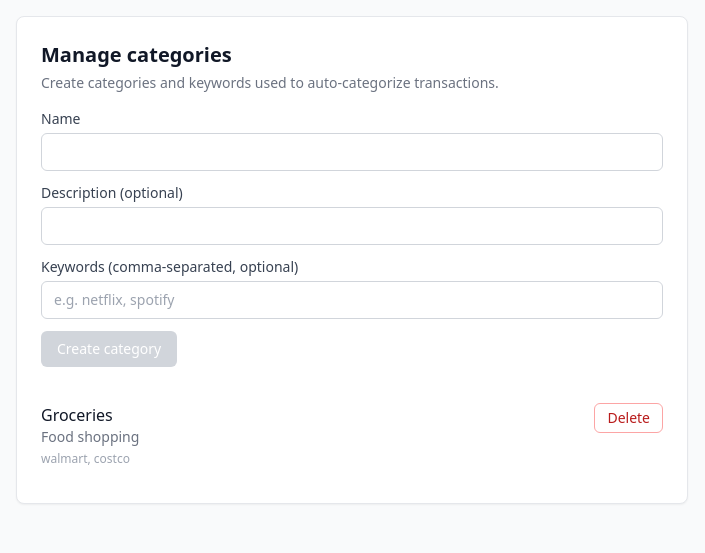
Test: ManageCategories › shows the real backend message for a duplicate category name (409)
Expected: the text "Groceries" is shown, [41,404,113,426]
Type "Groceries" into the field labelled "Name" at (352, 152), box [41,133,663,171]
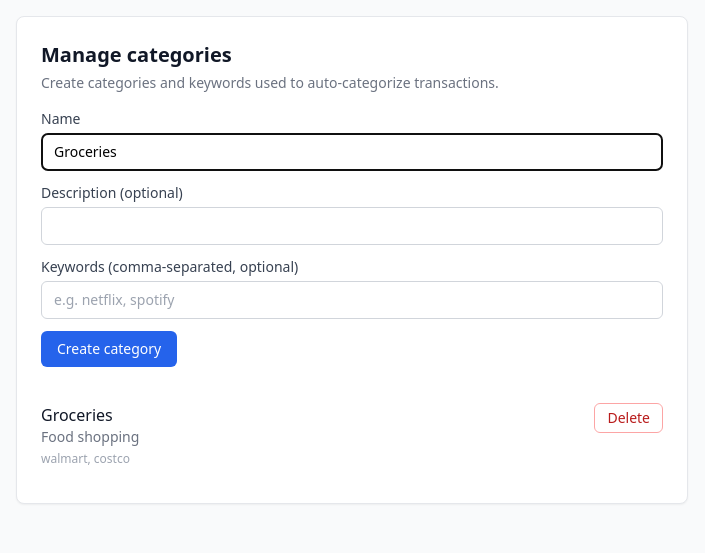
Click the button "Create category" at (109, 349), box [41,331,177,367]
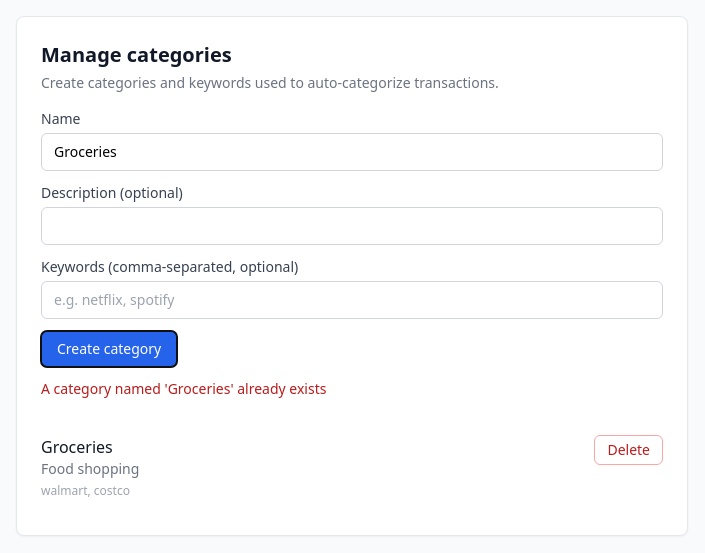
Expected: the text "A category named 'Groceries' already exists" is shown, [41,379,326,398]
